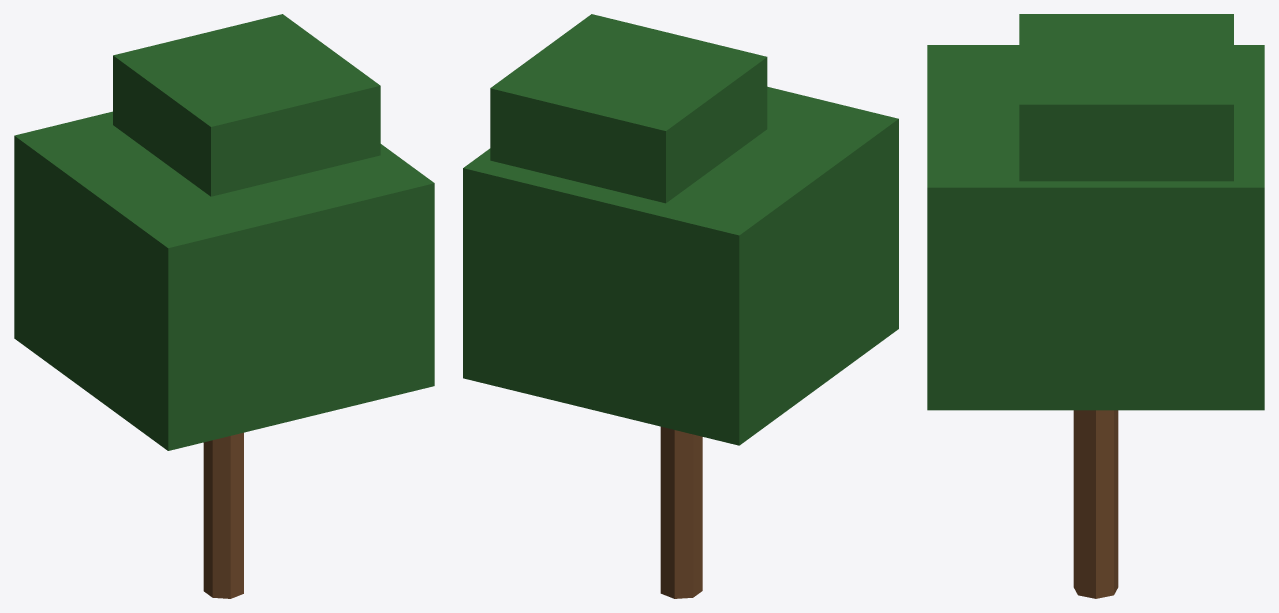
Rendered from tree.glb.
The picture shows the model from 3 angles, left to right: view 1: azimuth 30°, elevation 25°; view 2: azimuth 150°, elevation 25°; view 3: azimuth 270°, elevation 25°; orthographic projection. The views are drawn at different scales.
Parts seen in each view (by area): view 1: tree; view 2: tree; view 3: tree.
Boxes of the visible parts, x1,y1,x2,y2 form: tree: (14, 14, 434, 598); tree: (463, 14, 898, 598); tree: (927, 14, 1264, 598).
Bounding box in the file's own units: 2.2 × 3.95 × 2.2.
